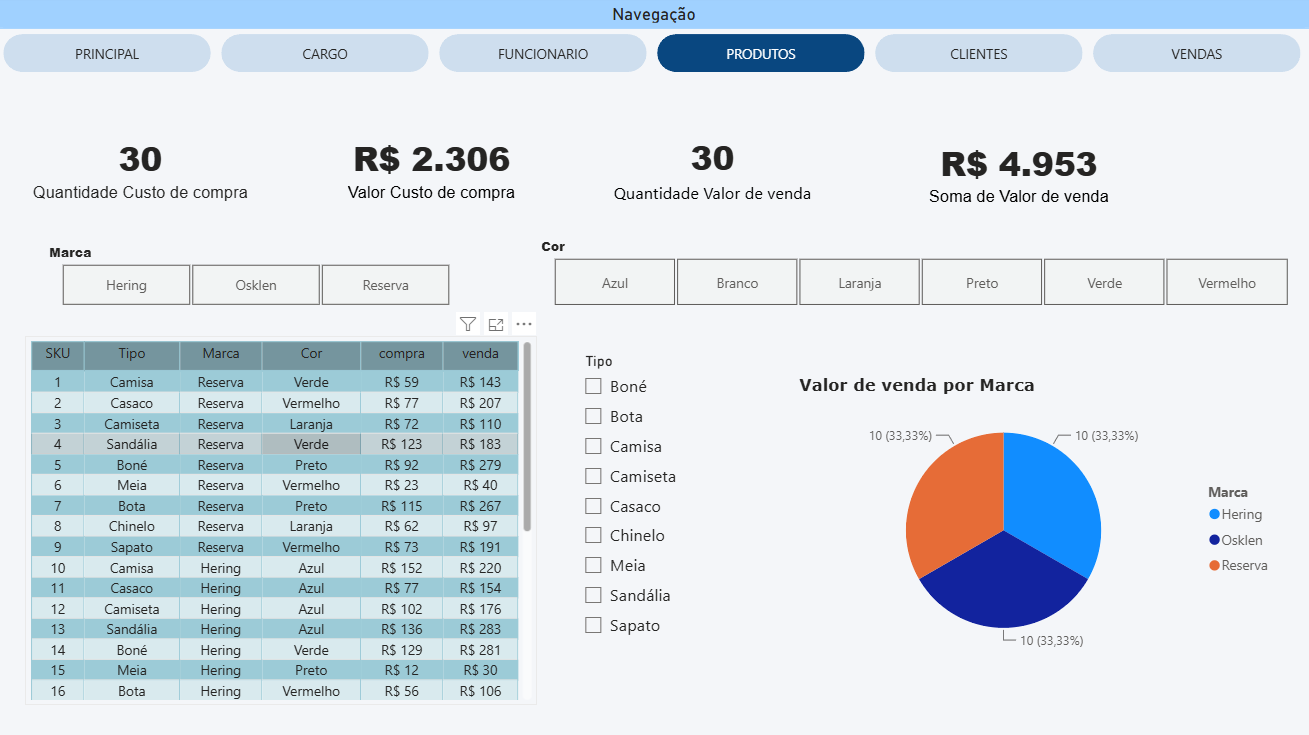

The page's visual inventory and layout, read from the dashboard file:
{"tool":"powerbi","page":{"name":"PRODUTOS","canvas":[1280,720],"ordinal":3},"visuals":[{"type":"pageNavigator","title":"Navegação","box":[0,0,1280,80.7],"z":0},{"type":"tableEx","fields":{"Values":["Tabela Produtos.SKU","Tabela Produtos.Tipo","Tabela Produtos.Marca","Tabela Produtos.Cor","Tabela Produtos.Custo de compra","Tabela Produtos.Valor de venda"]},"box":[28.2,330.7,498,358.9],"z":1000},{"type":"slicer","fields":{"Values":["Tabela Produtos.Tipo"]},"box":[560.2,341.4,201.3,303.5],"z":2000},{"type":"pieChart","title":" Valor de venda por Marca","fields":{"Category":["Tabela Produtos.Marca"],"Y":["CountNonNull(Tabela Produtos.Valor de venda)"]},"box":[776.2,368.6,475.6,283],"z":3000},{"type":"cardVisual","fields":{"Data":["CountNonNull(Tabela Produtos.Custo de compra)"]},"box":[3.9,107,273.3,121.6],"z":4000},{"type":"cardVisual","fields":{"Data":["Sum(Tabela Produtos.Custo de compra)"]},"box":[277.2,107,293.7,121.6],"z":5000},{"type":"cardVisual","fields":{"Data":["CountNonNull(Tabela Produtos.Valor de venda)"]},"box":[570.9,111.9,252.9,111.9],"z":6000},{"type":"cardVisual","fields":{"Data":["Sum(Tabela Produtos.Valor de venda)"]},"box":[855,116.7,280.1,111.9],"z":7000},{"type":"slicer","fields":{"Values":["Tabela Produtos.Marca"]},"box":[38.9,235.4,426,72],"z":8000},{"type":"slicer","fields":{"Values":["Tabela Produtos.Cor"]},"box":[517.4,229.5,762.6,77.8],"z":9000}]}

Visuals, with their boxes in screenshot pixels (x1, y1, x2, y2), scaled from the page's 1280x720 canvas onto the 1309x735 screenshot:
"Navegação" pageNavigator: 0/0/1308/82
tableEx - Tabela Produtos.SKU x Tabela Produtos.Tipo: 29/338/538/704
slicer - Tabela Produtos.Tipo: 573/349/779/658
" Valor de venda por Marca" pieChart: 794/376/1280/665
cardVisual - CountNonNull(Tabela Produtos.Custo de compra): 4/109/283/233
cardVisual - Sum(Tabela Produtos.Custo de compra): 283/109/584/233
cardVisual - CountNonNull(Tabela Produtos.Valor de venda): 584/114/842/228
cardVisual - Sum(Tabela Produtos.Valor de venda): 874/119/1161/233
slicer - Tabela Produtos.Marca: 40/240/475/314
slicer - Tabela Produtos.Cor: 529/234/1308/314
